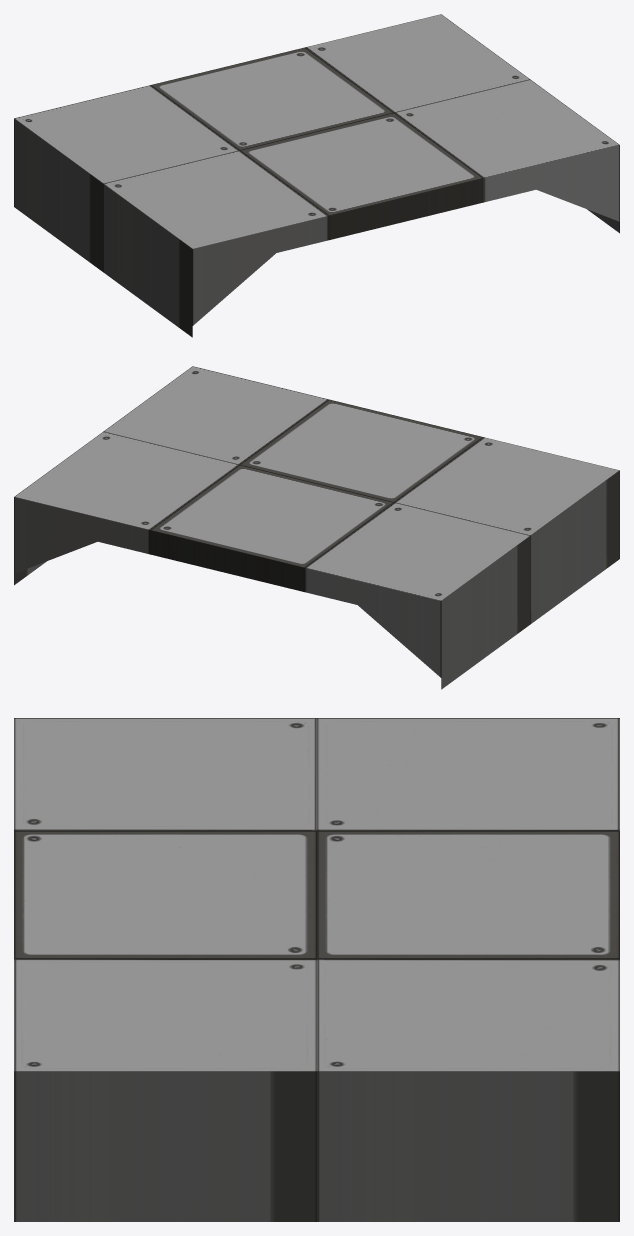
Rendered from A_Ceiling_A_Coridor_4x8.FBX.
3 renders of one model, top to bottom at view 1: azimuth 30°, elevation 25°; view 2: azimuth 150°, elevation 25°; view 3: azimuth 270°, elevation 25°, orthographic. The views are drawn at different scales.
Visible parts, largest first — view 1: A_Ceiling_A_Coridor_4x8; view 2: A_Ceiling_A_Coridor_4x8; view 3: A_Ceiling_A_Coridor_4x8.
Part boxes in pixels (x1=…): A_Ceiling_A_Coridor_4x8: x1=14, y1=14, x2=619, y2=337; A_Ceiling_A_Coridor_4x8: x1=14, y1=366, x2=619, y2=689; A_Ceiling_A_Coridor_4x8: x1=14, y1=718, x2=619, y2=1221.
Size of the model in its own units: 552 by 109 by 400.
